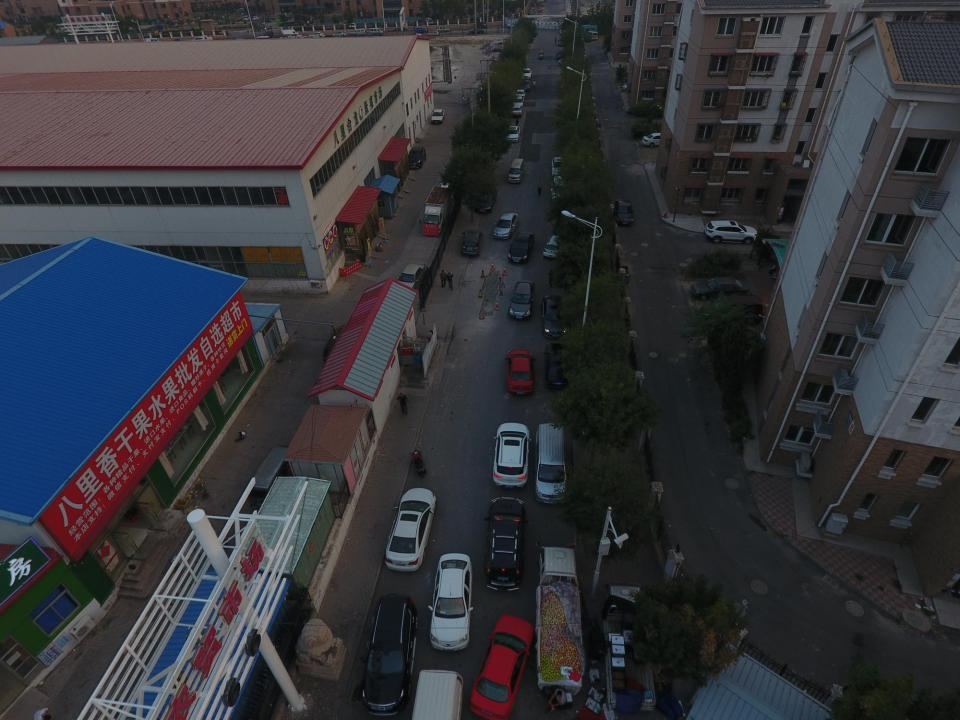car: (360, 594, 416, 718), (470, 615, 534, 718), (384, 487, 436, 572), (430, 552, 472, 651), (484, 496, 525, 590), (535, 422, 569, 505), (698, 290, 767, 326), (414, 664, 458, 720), (493, 421, 528, 488), (388, 259, 430, 300), (504, 348, 536, 397), (705, 218, 759, 247), (691, 277, 750, 300), (544, 342, 572, 390), (540, 295, 565, 339), (509, 281, 533, 320), (509, 231, 533, 264), (472, 186, 495, 215), (493, 211, 517, 238), (543, 233, 564, 258), (460, 229, 478, 258), (406, 145, 426, 170), (615, 200, 634, 226), (507, 157, 524, 184), (640, 132, 668, 148), (551, 176, 568, 202), (552, 156, 569, 178), (505, 125, 520, 143), (431, 109, 445, 122), (521, 68, 531, 80), (511, 105, 521, 116), (514, 87, 525, 97)
truck: (537, 543, 583, 696), (605, 584, 658, 712), (423, 185, 449, 236)
van: (587, 30, 598, 40)
